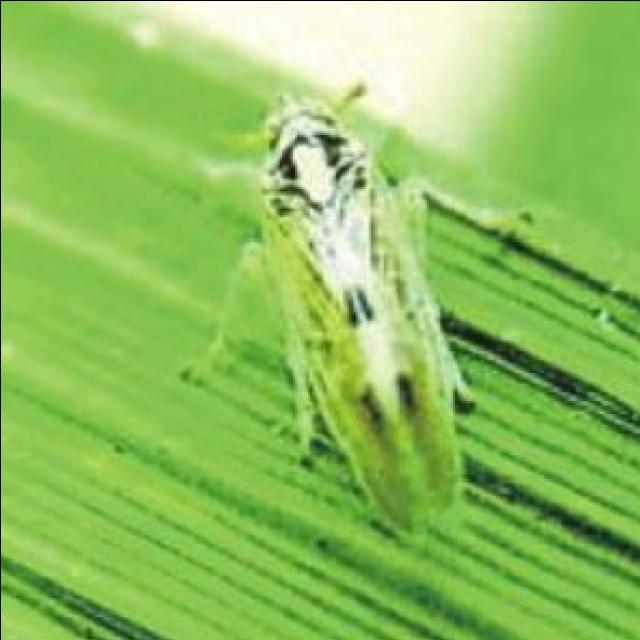brown plant hopper: (182, 82, 474, 523), (443, 192, 560, 251)
